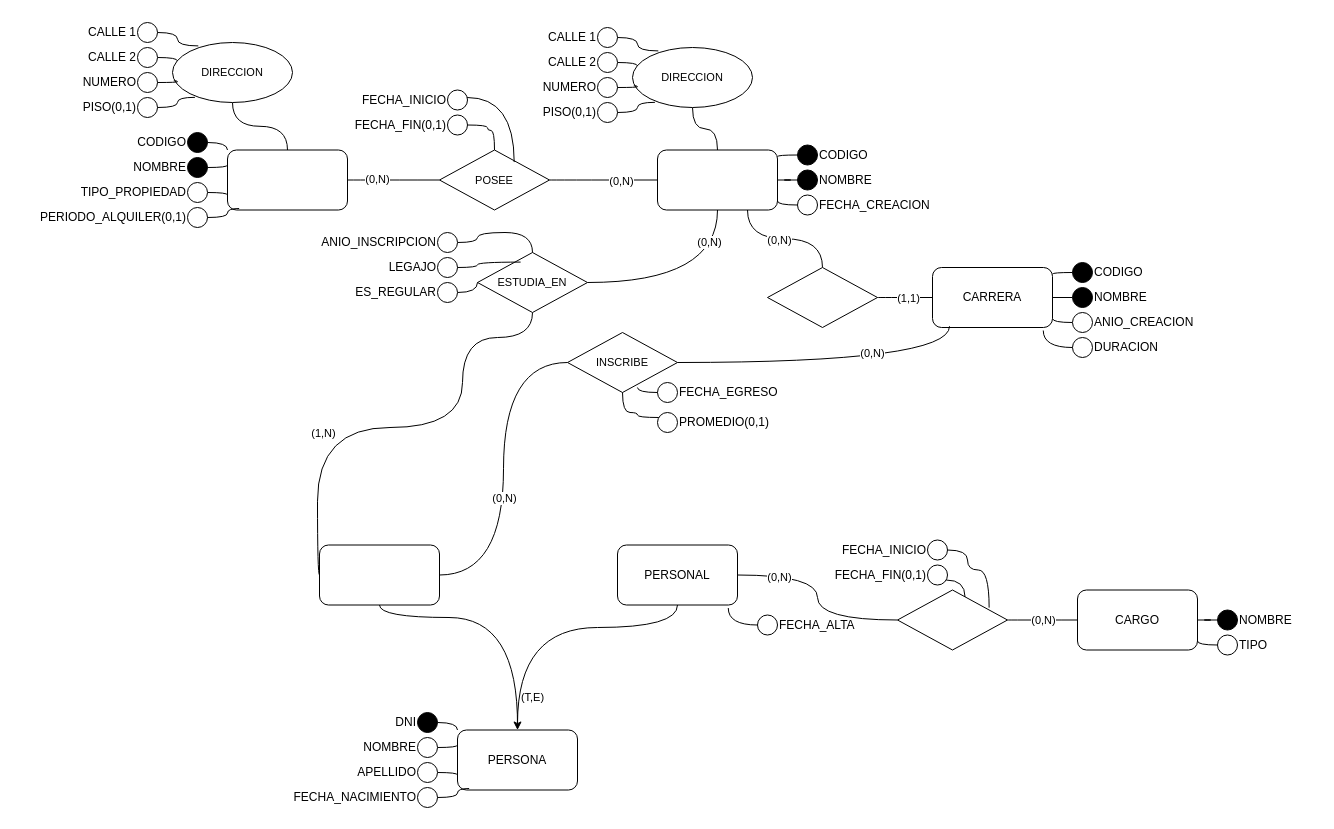
Some shapes in this 1334 by 829 pixel diagram are drawn without their labels. Here are the shapes that lost their labels. From the top down, the centre of each, then its label:
(287,179): SEDE
(717,179): FACULTAD
(822,297): OFRECE
(379,574): ESTUDIANTE
(952,619): DESEMPEÑA
